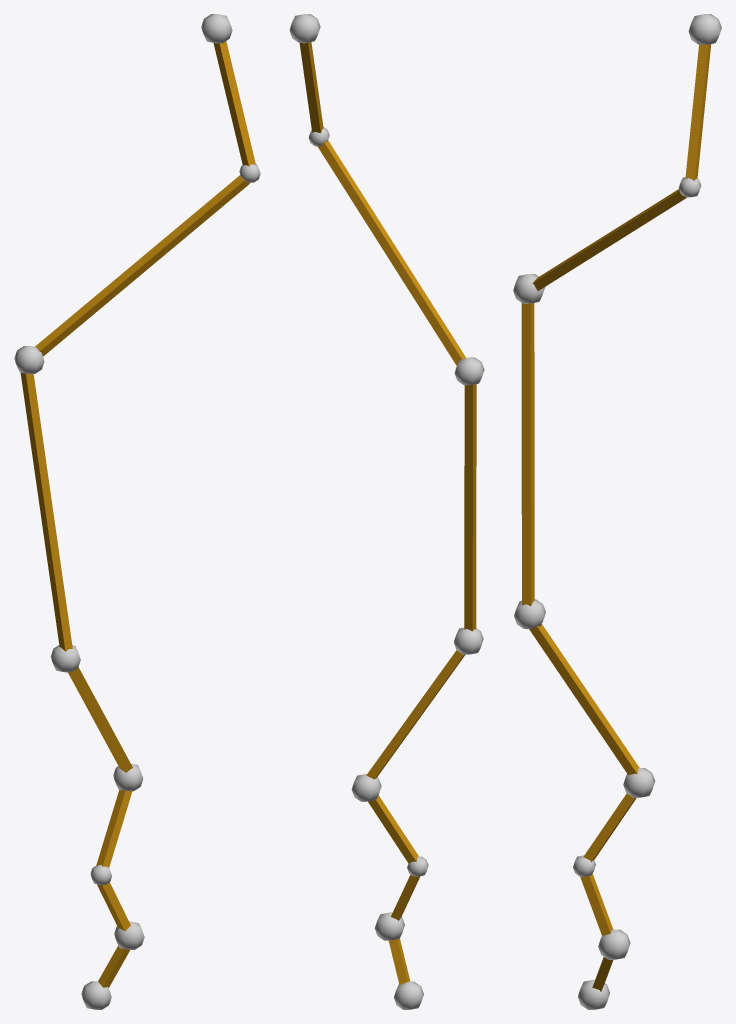
Rendered from Constellation_Lynx.fbx.
The picture shows the model from 3 angles, left to right: view 1: azimuth 30°, elevation 25°; view 2: azimuth 150°, elevation 25°; view 3: azimuth 330°, elevation 25°; orthographic projection. The views are drawn at different scales.
Parts seen in each view (by area): view 1: Constellation_Lynx; view 2: Constellation_Lynx; view 3: Constellation_Lynx.
Part boxes in pixels (<box>): Constellation_Lynx: <box>14,14,260,1009</box>; Constellation_Lynx: <box>289,14,484,1009</box>; Constellation_Lynx: <box>513,14,721,1009</box>.
Bounding box in the file's own units: 7.54 × 33.51 × 3.13.
